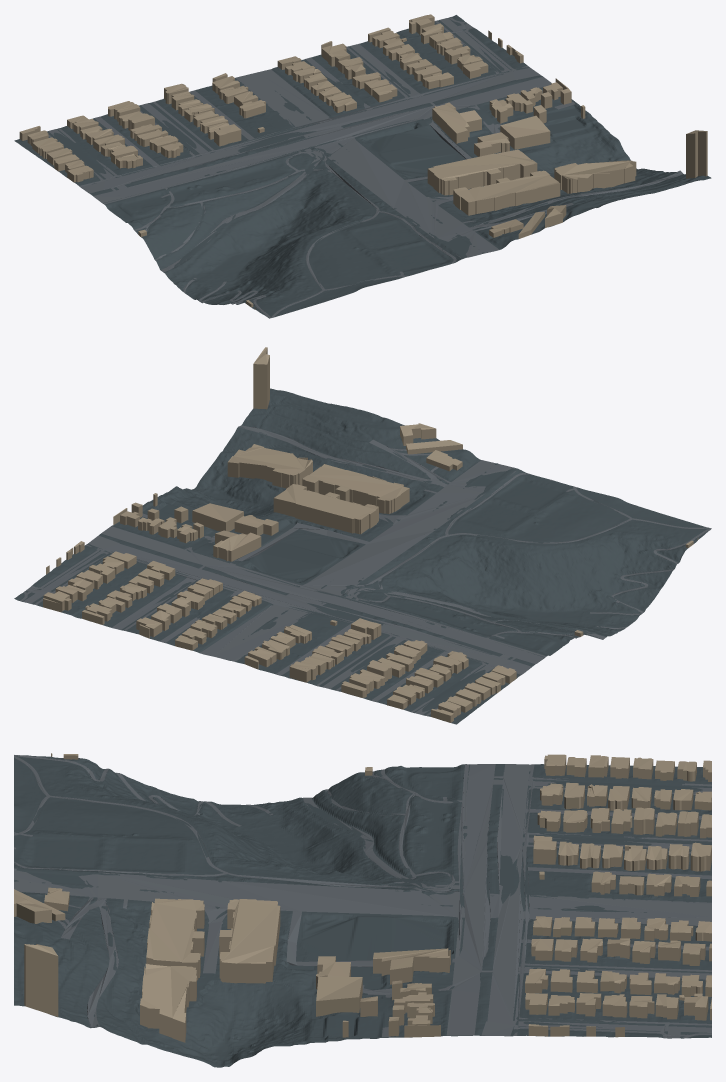
Rendered from epsg26910-1422-10876.lod0.glb.
3 renders of one model, top to bottom at view 1: azimuth 30°, elevation 25°; view 2: azimuth 150°, elevation 25°; view 3: azimuth 270°, elevation 25°, orthographic. The views are drawn at different scales.
Visible parts, largest first — view 1: epsg26910-1422-10876-lod0; view 2: epsg26910-1422-10876-lod0; view 3: epsg26910-1422-10876-lod0.
Part boxes in pixels (x1,y1,x2,y2): epsg26910-1422-10876-lod0: [14, 14, 711, 318]; epsg26910-1422-10876-lod0: [14, 347, 711, 724]; epsg26910-1422-10876-lod0: [14, 753, 711, 1067].
Size of the model in its own units: 384 by 93.8 by 384.
